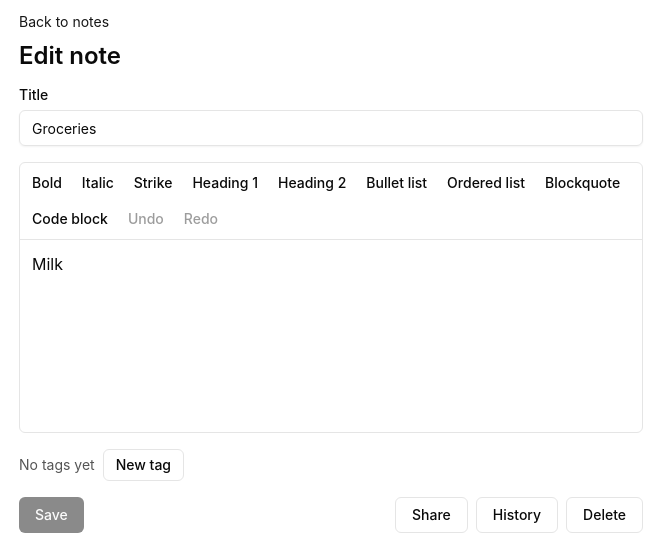
NoteEditorPage editing › Successful save resets the baseline
Expected: the field named "Note content" is shown, top-left (32, 254), bottom-right (63, 274)
Type "!" into the field labelled "Title" at (331, 128), box top-left (19, 110), bottom-right (643, 146)
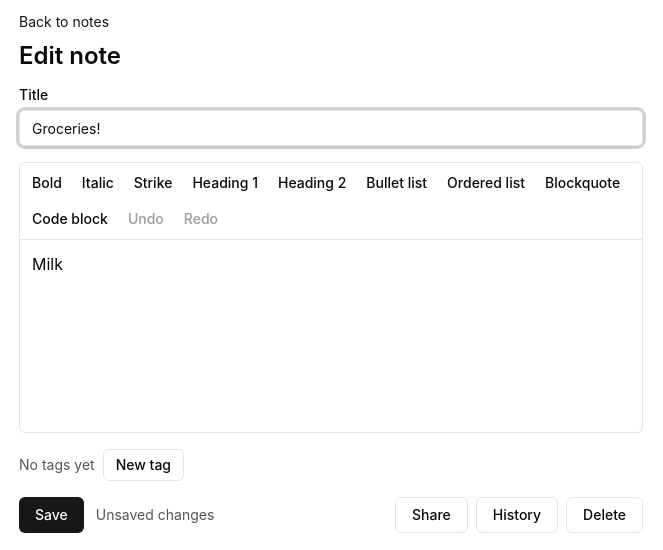
Click the button "Save" at (51, 515), box top-left (19, 497), bottom-right (84, 533)
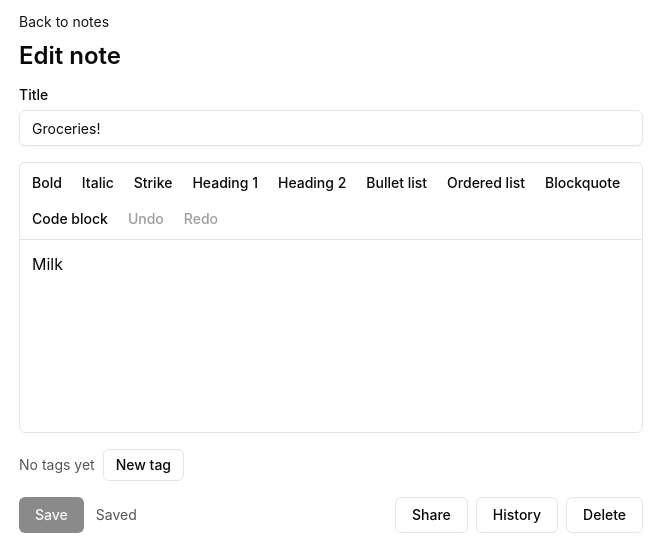
Expected: the text "Saved" is shown, top-left (96, 505), bottom-right (137, 525)
Expected: the button "Save" is disabled, top-left (19, 497), bottom-right (84, 533)
Expected: the text "Unsaved changes" is gone
